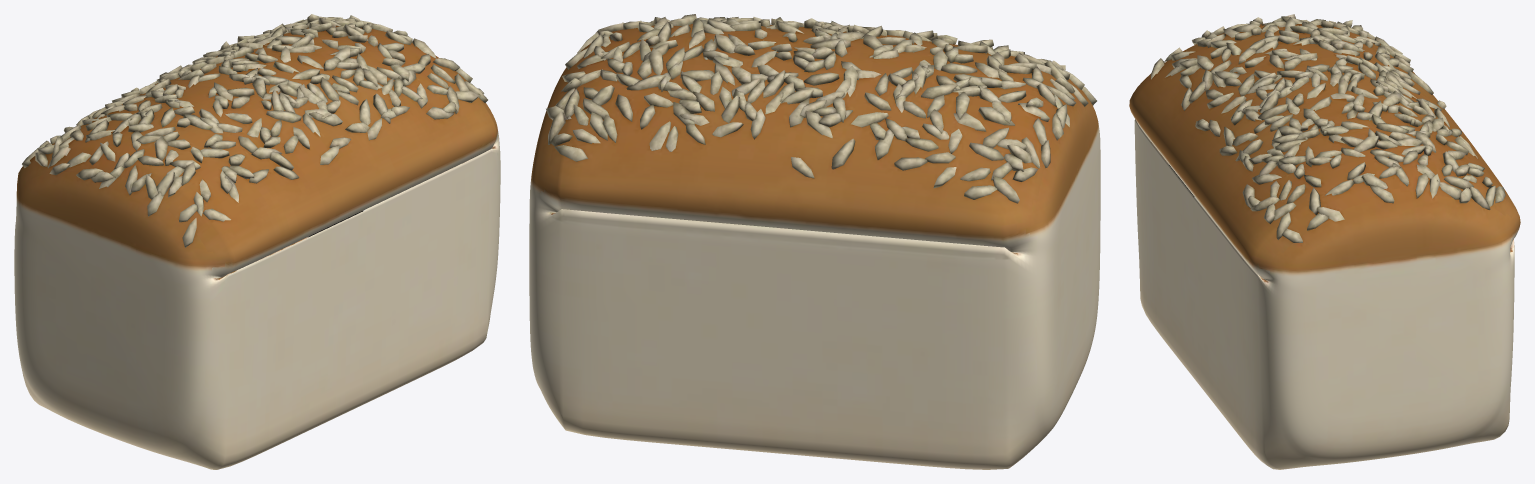
The model's file is loaf--sunflowerseed-seed.glb.
The picture shows the model from 3 angles, left to right: view 1: azimuth 30°, elevation 25°; view 2: azimuth 150°, elevation 25°; view 3: azimuth 270°, elevation 25°; orthographic projection. The views are drawn at different scales.
Parts seen in each view (by area): view 1: loaf_sunflowerseed-seed; view 2: loaf_sunflowerseed-seed; view 3: loaf_sunflowerseed-seed.
Boxes of the visible parts, bbox=[...] form: loaf_sunflowerseed-seed: bbox=[14, 14, 500, 469]; loaf_sunflowerseed-seed: bbox=[529, 14, 1100, 469]; loaf_sunflowerseed-seed: bbox=[1129, 14, 1520, 469].
Bounding box in the file's own units: 1.09 × 0.7382 × 0.8491.
1 material, 1 textured.
